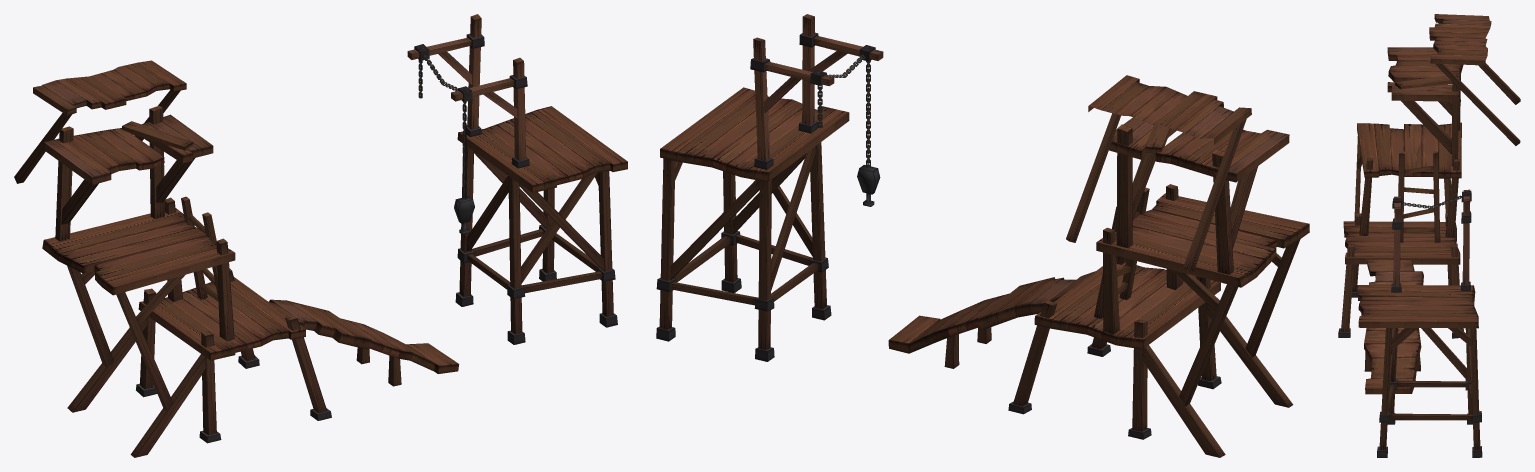
The model's file is 2_YiZhan_JiaoShouJia_01.FBX.
3 renders of one model, left to right at view 1: azimuth 30°, elevation 25°; view 2: azimuth 150°, elevation 25°; view 3: azimuth 270°, elevation 25°, orthographic. The views are drawn at different scales.
Visible parts, largest first — view 1: 2_YiZhan_JiaoShouJia_01, 2_YiZhan_JiaoShouJia_06, 2_YiZhan_JiaoShouJia_02, 2_YiZhan_JiaoShouJia_07, 2_YiZhan_JiaoShouJia_03, 2_YiZhan_JiaoShouJia_05, 2_YiZhan_JiaoShouJia_04; view 2: 2_YiZhan_JiaoShouJia_01, 2_YiZhan_JiaoShouJia_06, 2_YiZhan_JiaoShouJia_02, 2_YiZhan_JiaoShouJia_03, 2_YiZhan_JiaoShouJia_07, 2_YiZhan_JiaoShouJia_05, 2_YiZhan_JiaoShouJia_04; view 3: 2_YiZhan_JiaoShouJia_01, 2_YiZhan_JiaoShouJia_06, 2_YiZhan_JiaoShouJia_02, 2_YiZhan_JiaoShouJia_03, 2_YiZhan_JiaoShouJia_05, 2_YiZhan_JiaoShouJia_07, 2_YiZhan_JiaoShouJia_04.
Part boxes in pixels (x1,y1,x2,y2): 2_YiZhan_JiaoShouJia_01: (42,197,331,457); 2_YiZhan_JiaoShouJia_06: (455,106,627,344); 2_YiZhan_JiaoShouJia_02: (43,105,213,241); 2_YiZhan_JiaoShouJia_07: (407,14,529,234); 2_YiZhan_JiaoShouJia_03: (14,60,186,183); 2_YiZhan_JiaoShouJia_05: (268,299,459,386); 2_YiZhan_JiaoShouJia_04: (181,196,218,301); 2_YiZhan_JiaoShouJia_01: (1008,184,1309,457); 2_YiZhan_JiaoShouJia_06: (656,87,849,361); 2_YiZhan_JiaoShouJia_02: (1109,117,1289,274); 2_YiZhan_JiaoShouJia_03: (1066,75,1251,271); 2_YiZhan_JiaoShouJia_07: (750,14,883,206); 2_YiZhan_JiaoShouJia_05: (888,271,1095,368); 2_YiZhan_JiaoShouJia_04: (1094,187,1149,318); 2_YiZhan_JiaoShouJia_01: (1338,122,1463,338); 2_YiZhan_JiaoShouJia_06: (1357,285,1482,457); 2_YiZhan_JiaoShouJia_02: (1387,47,1463,166); 2_YiZhan_JiaoShouJia_03: (1429,14,1520,145); 2_YiZhan_JiaoShouJia_05: (1361,259,1423,394); 2_YiZhan_JiaoShouJia_07: (1391,189,1471,292); 2_YiZhan_JiaoShouJia_04: (1398,151,1440,242).
Bounding box in the file's own units: 1875 × 1080 × 721.
1 material, 1 textured.
